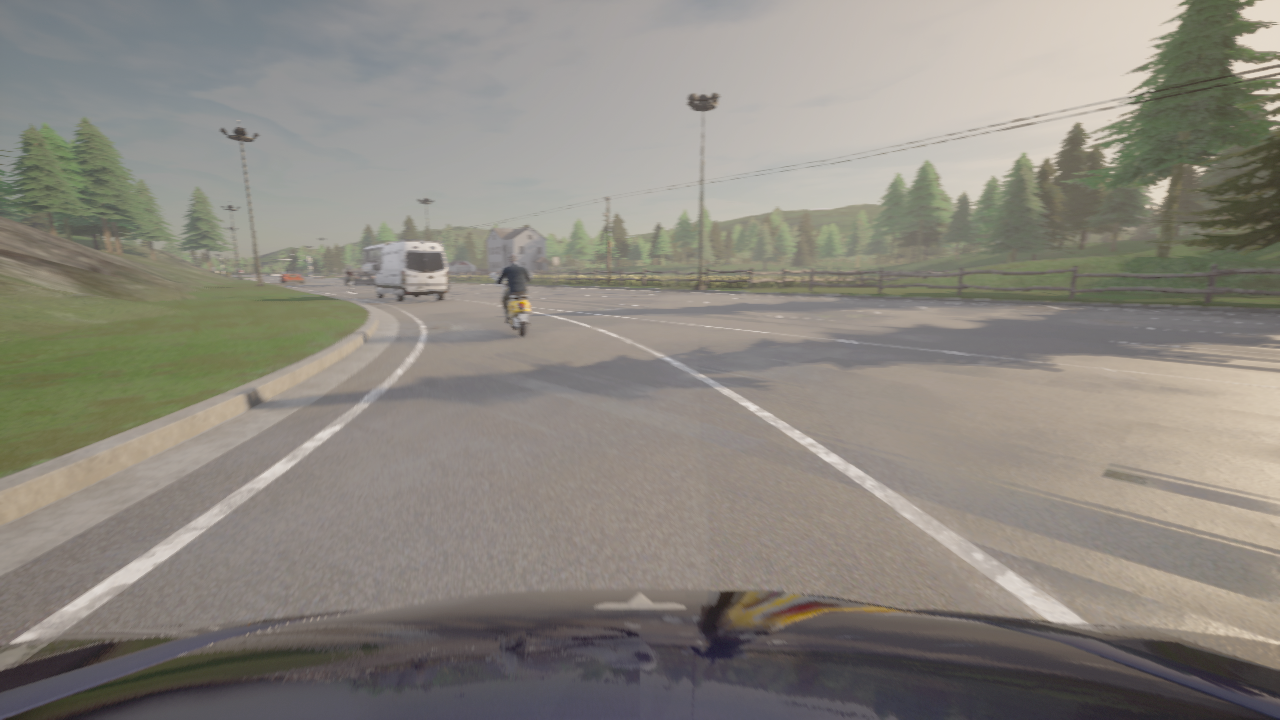cyclist: (0, 588, 1279, 719), (372, 241, 449, 301), (491, 271, 533, 336), (357, 242, 394, 274), (344, 270, 374, 286), (280, 270, 303, 283), (350, 281, 353, 291), (503, 285, 506, 289)
